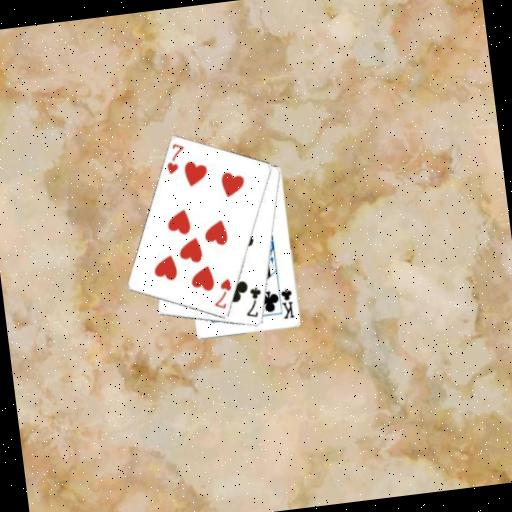7C: (240, 284, 266, 321)
7H: (161, 139, 189, 177), (208, 275, 236, 312)
KC: (274, 283, 297, 321)
